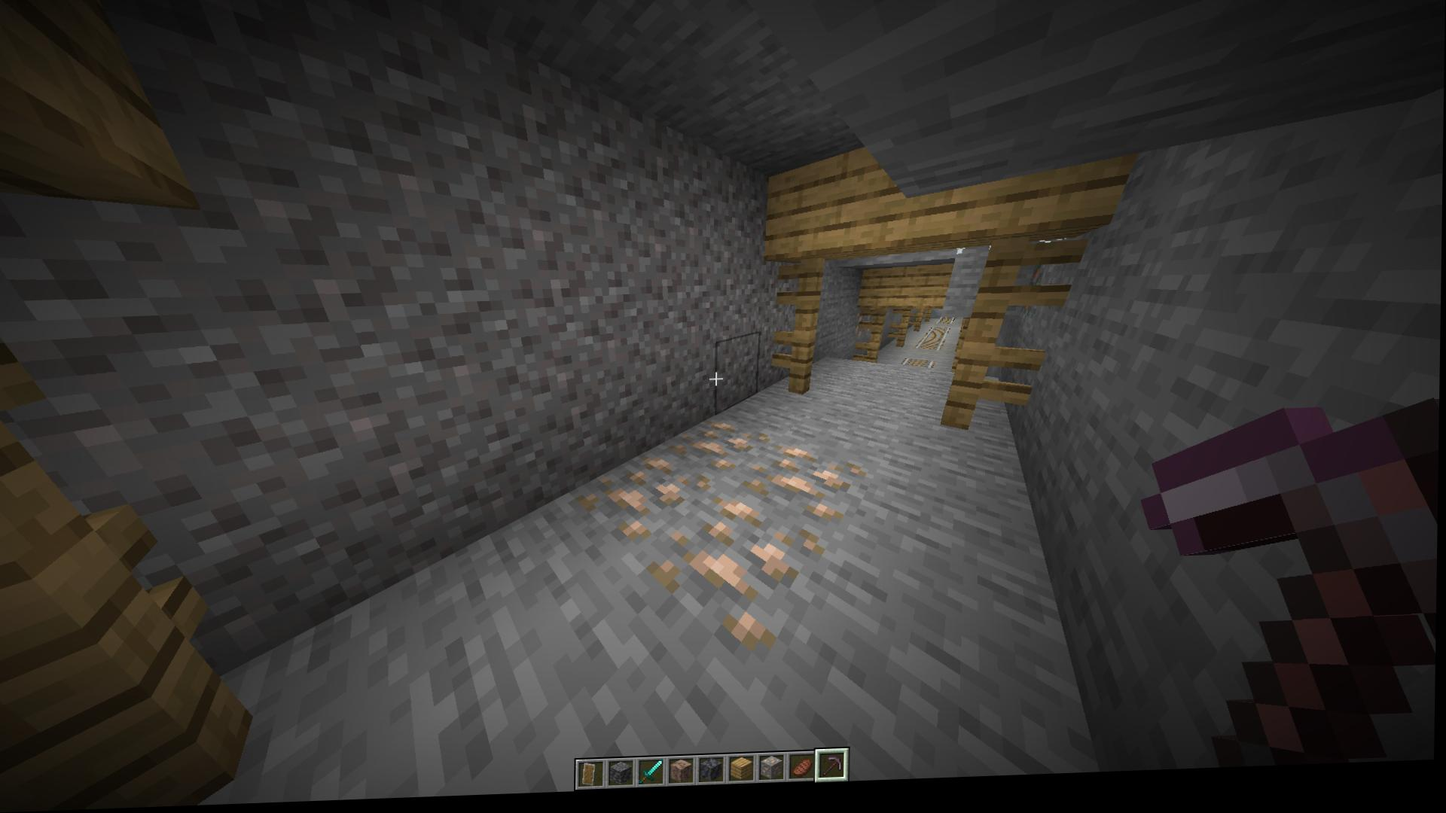iron ore: (652, 503, 840, 654), (582, 458, 706, 538), (754, 450, 856, 520), (675, 422, 772, 479)
